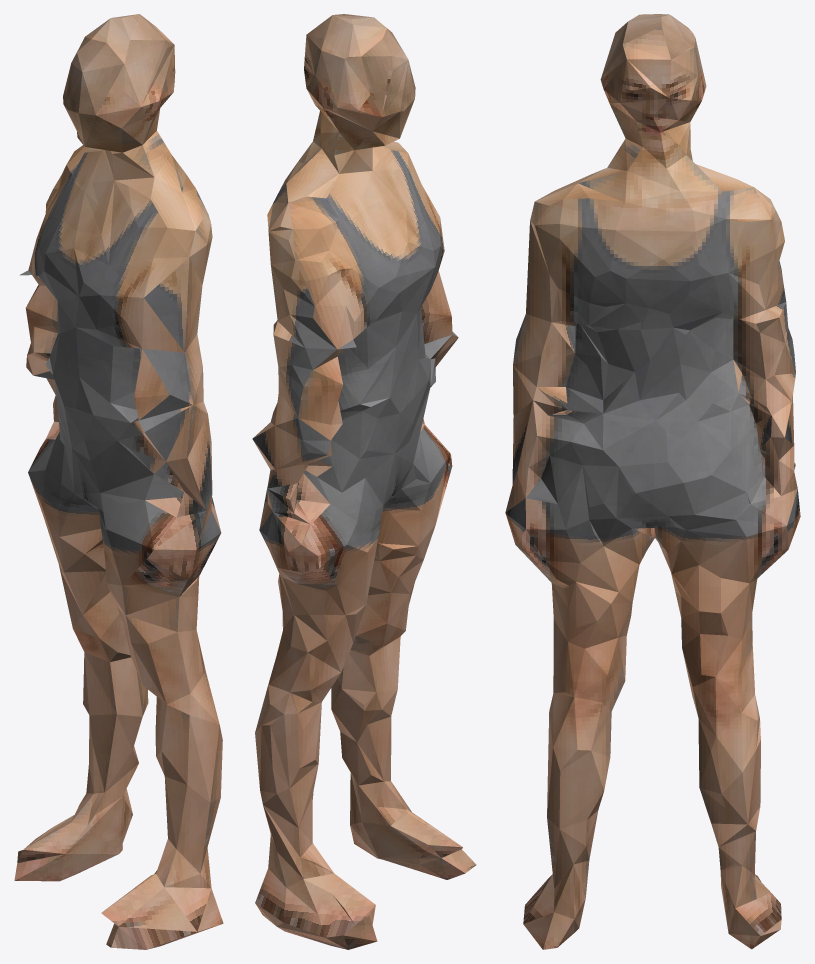
File: personaje.base.cuerpo_mujer.glb
The picture shows the model from 3 angles, left to right: view 1: azimuth 30°, elevation 25°; view 2: azimuth 150°, elevation 25°; view 3: azimuth 270°, elevation 25°; orthographic projection. The views are drawn at different scales.
Visible parts, largest first — view 1: personaje.base.cuerpo_mujer; view 2: personaje.base.cuerpo_mujer; view 3: personaje.base.cuerpo_mujer.
Boxes of the visible parts, x1,y1,x2,y2 form: personaje.base.cuerpo_mujer: (14, 14, 223, 949); personaje.base.cuerpo_mujer: (252, 14, 476, 949); personaje.base.cuerpo_mujer: (505, 14, 800, 949).
Size of the model in its own units: 0.2502 by 1.6 by 0.4649.
Materials: 1 (1 with a texture image).
